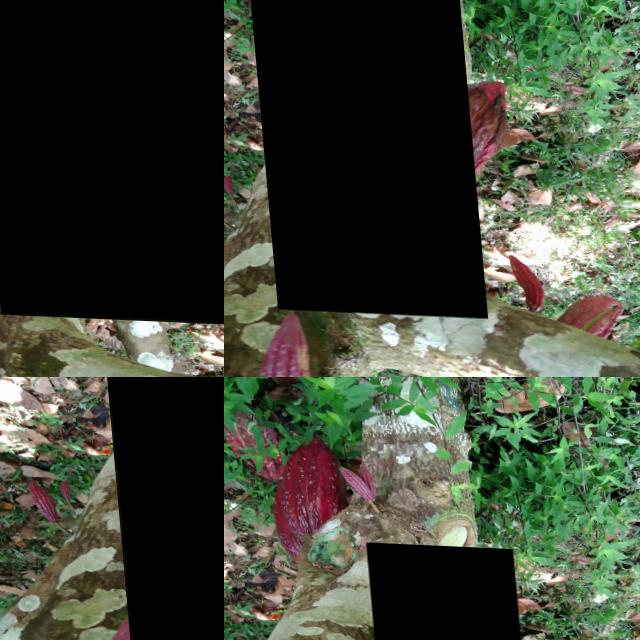Fitoftora: (243, 0, 479, 314), (0, 0, 224, 321), (94, 377, 224, 640), (362, 540, 518, 640)
Sana: (266, 433, 343, 542), (335, 467, 370, 500)
